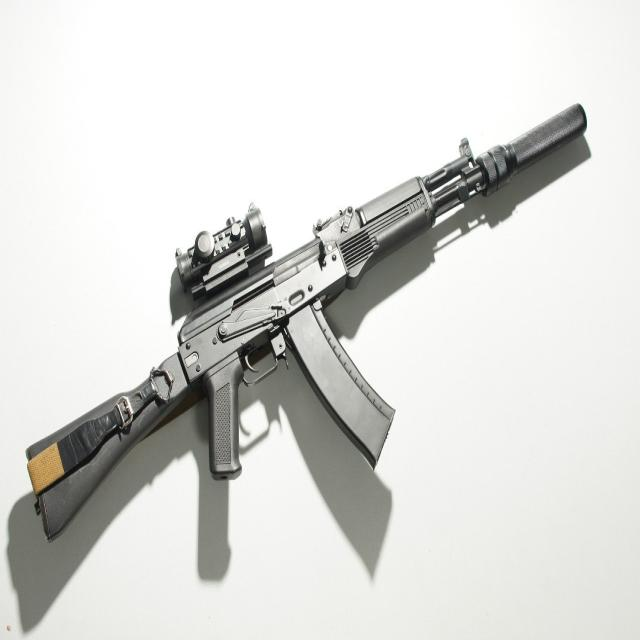firearm: (25, 102, 588, 546)
